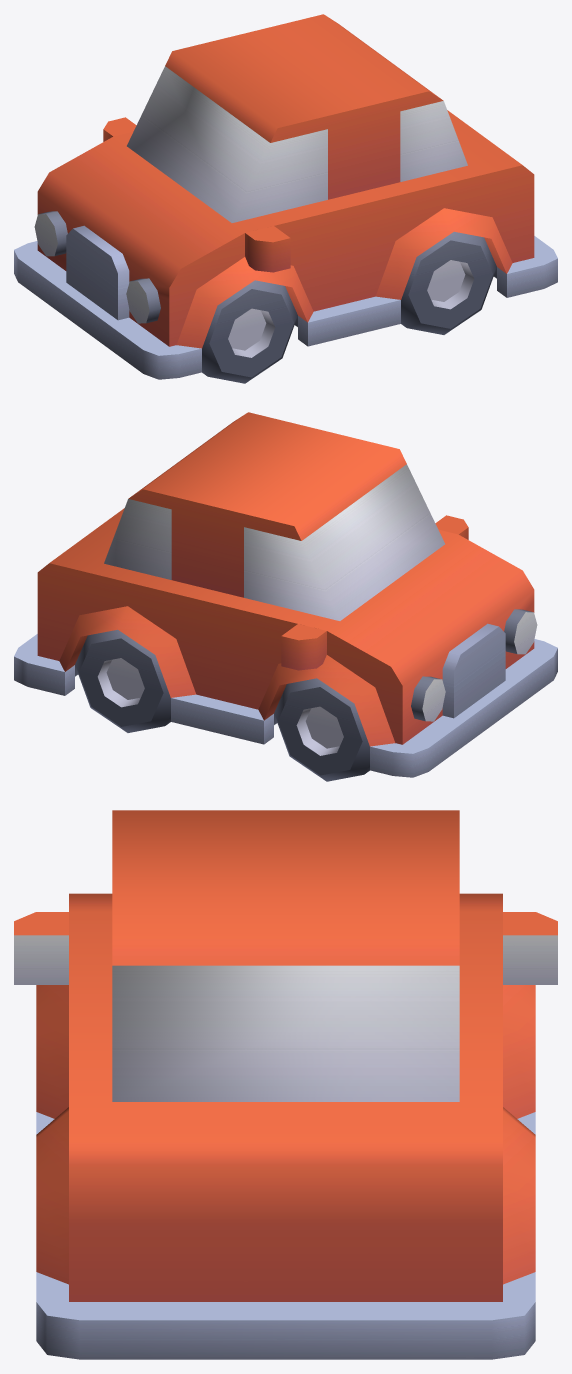
File: vehicle.glb
The picture shows the model from 3 angles, top to bottom: view 1: azimuth 30°, elevation 25°; view 2: azimuth 150°, elevation 25°; view 3: azimuth 270°, elevation 25°; orthographic projection. The views are drawn at different scales.
Visible parts, largest first — view 1: body, Group, wheel-front-left, wheel-back-left; view 2: body, Group, wheel-front-right, wheel-back-right; view 3: body, Group.
Part boxes in pixels (x1=…): body: x1=14, y1=14, x2=557, y2=379; Group: x1=37, y1=110, x2=534, y2=346; wheel-front-left: x1=202, y1=280, x2=297, y2=383; wheel-back-left: x1=401, y1=231, x2=496, y2=334; body: x1=14, y1=412, x2=557, y2=777; Group: x1=37, y1=508, x2=534, y2=744; wheel-front-right: x1=274, y1=678, x2=369, y2=781; wheel-back-right: x1=75, y1=629, x2=170, y2=732; body: x1=14, y1=810, x2=557, y2=1359; Group: x1=69, y1=893, x2=502, y2=1301.
Bounding box in the file's own units: 1.42 × 0.777 × 0.9901.
1 material, 1 textured.
